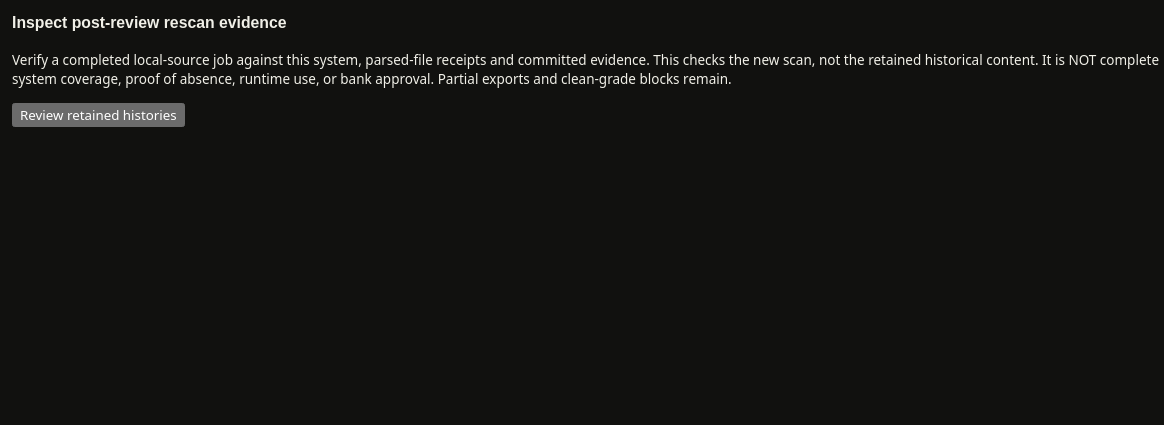
Test: Retained-source rescan inspection › clears the previous proof on refresh and does not silently repeat inspection
Click the button "Review retained histories" at (98, 115), box [12,103,185,127]
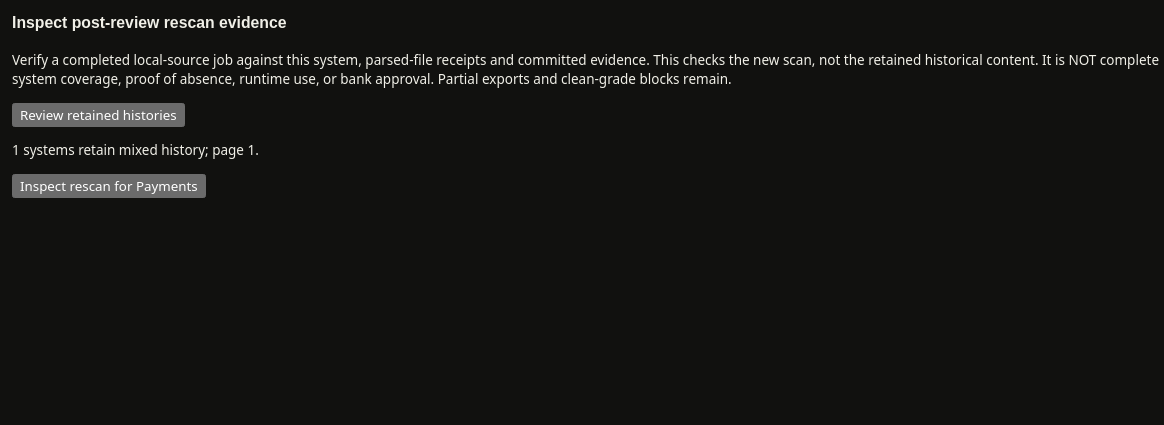
Click the button "Inspect rescan for Payments" at (109, 186), box [12,174,206,198]
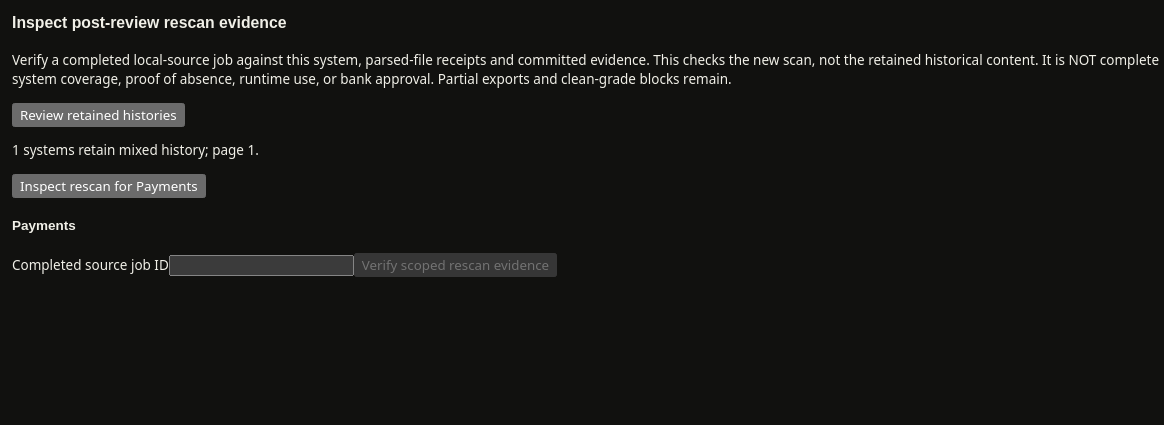
Type "job-a" into the field labelled "Completed source job ID" at (261, 266), box [169,255,354,276]
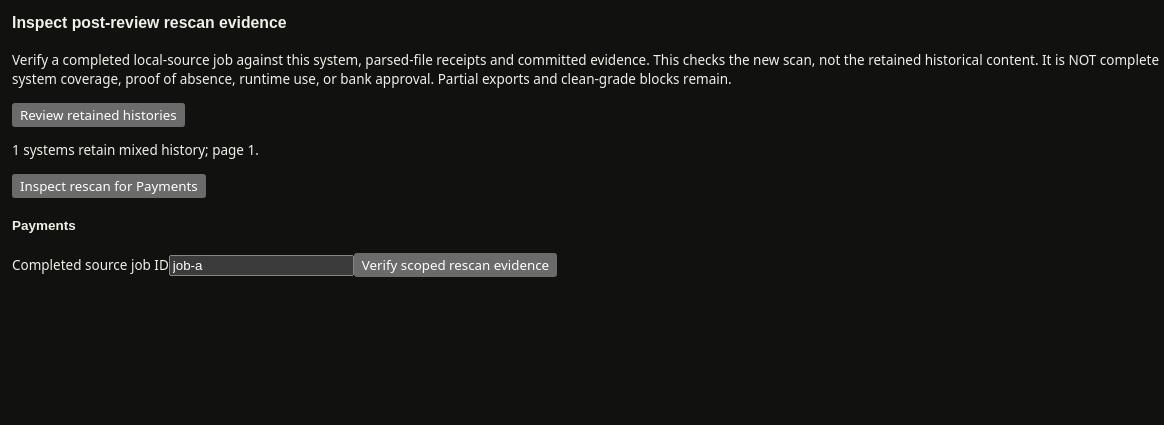
Click the button "Verify scoped rescan evidence" at (455, 265), box [354,253,557,277]
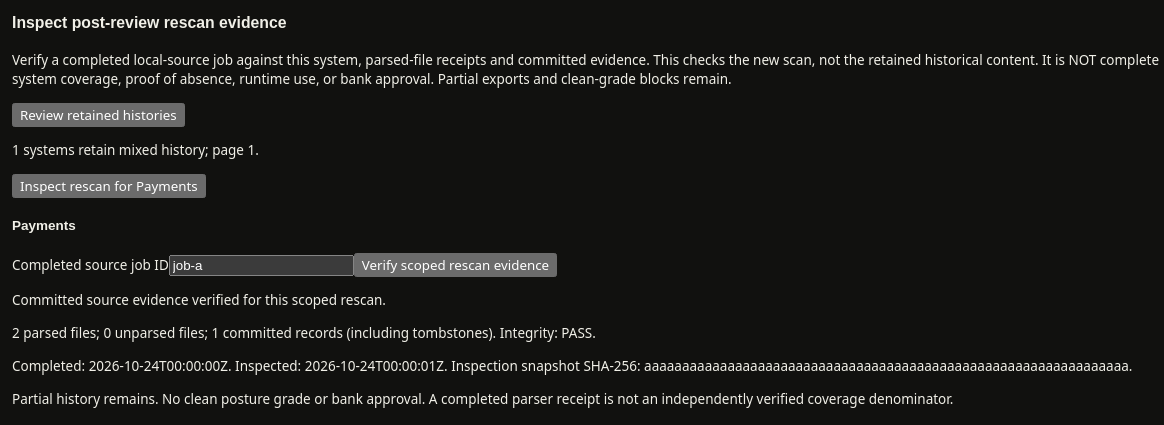
Expected: the text "Committed source evidence verified for this scoped rescan." is shown, [12,291,386,309]
Click the button "Review retained histories" at (98, 115), box [12,103,185,127]
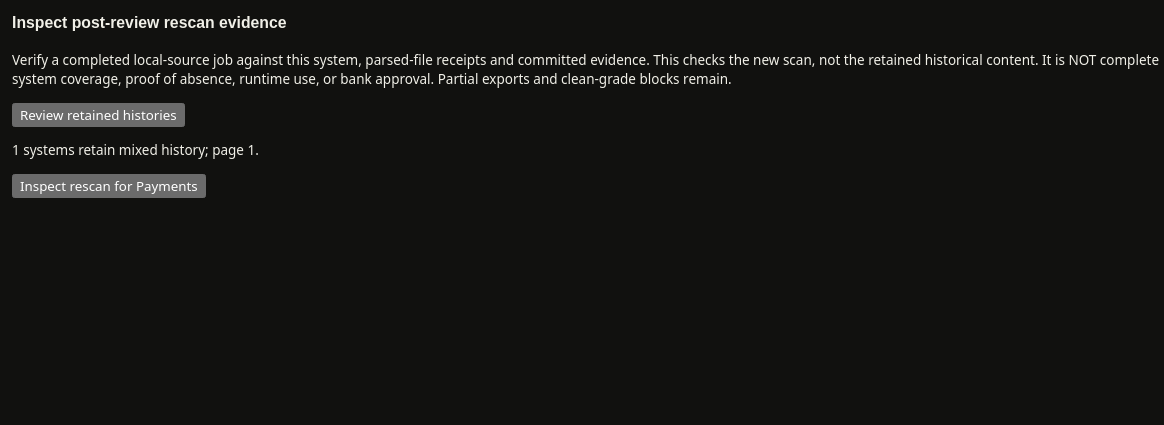
Expected: the button "Inspect rescan for Payments" is shown, [12,174,206,198]
Expected: the text "Committed source evidence verified for this scoped rescan." is gone
